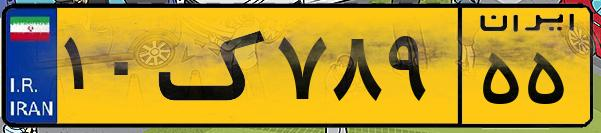0: (110, 28, 158, 98)
1: (57, 26, 110, 100)
5: (475, 38, 525, 113), (525, 38, 570, 115)
7: (270, 28, 330, 110)
8: (330, 28, 385, 110)
9: (385, 28, 445, 110)
ک: (158, 12, 270, 120)
